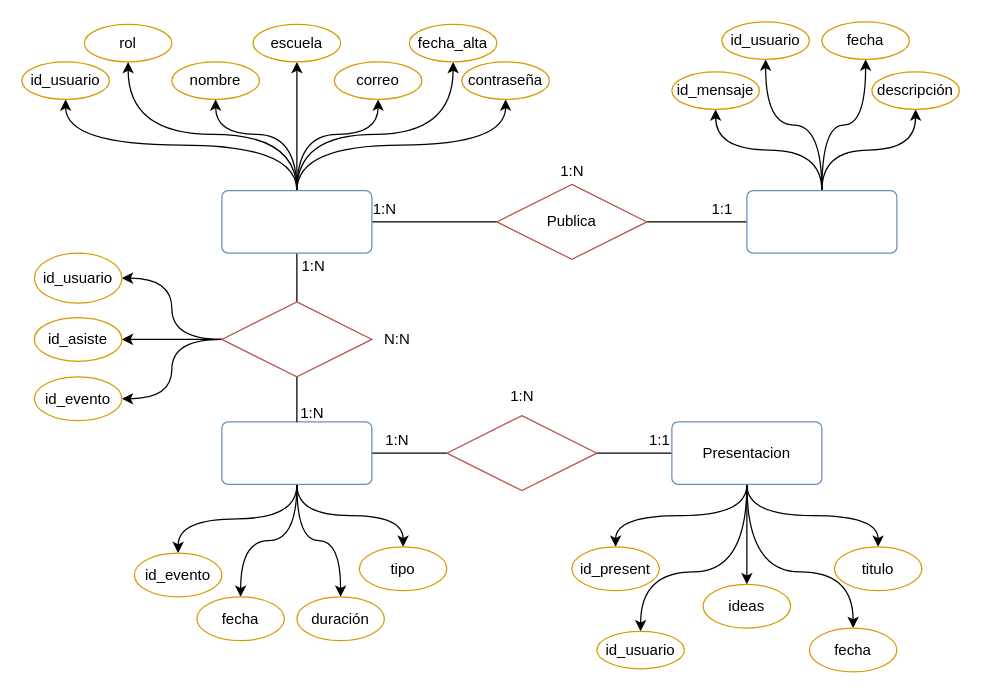
Image size: 981x694. Some labels were removed from this diagram. Each missing label, with the centre of its shape:
"Asiste" goes at point 296,339.
"Es tipo" goes at point 521,452.
"Evento" goes at point 296,452.
"MSGForo" goes at point 821,221.
"Usuario" goes at point 296,221.
